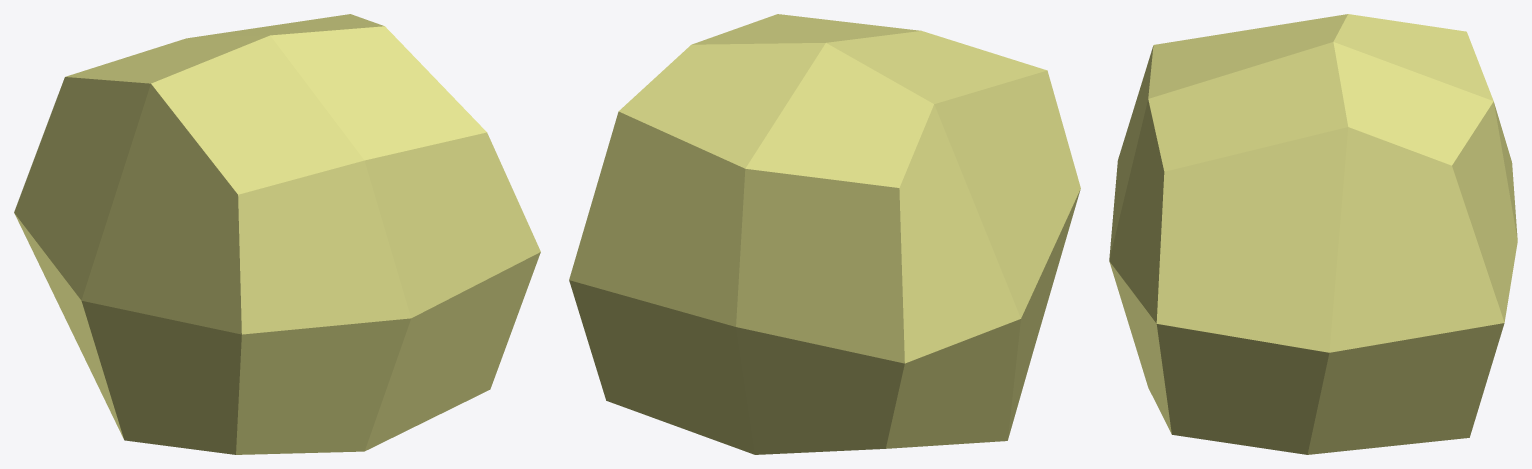
The model's file is food.fbx.
3 renders of one model, left to right at view 1: azimuth 30°, elevation 25°; view 2: azimuth 150°, elevation 25°; view 3: azimuth 270°, elevation 25°, orthographic. The views are drawn at different scales.
Parts seen in each view (by area): view 1: Cube; view 2: Cube; view 3: Cube.
Boxes of the visible parts, bbox=[...] form: Cube: bbox=[14, 14, 540, 454]; Cube: bbox=[569, 14, 1080, 454]; Cube: bbox=[1109, 14, 1517, 454].
Size of the model in its own units: 285 by 244 by 256.
